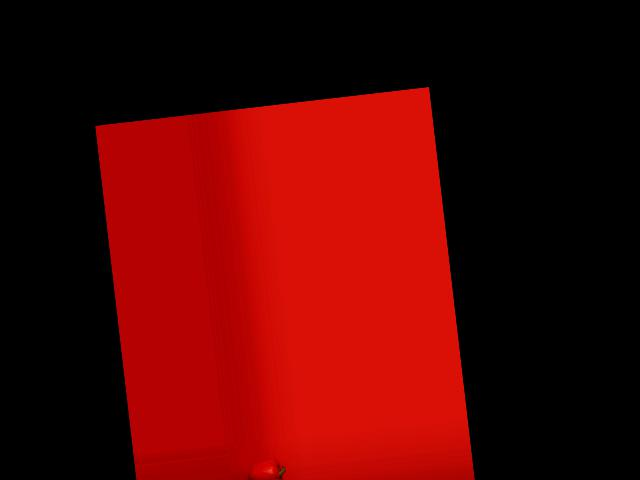bell_pepper: (243, 458, 289, 480)
